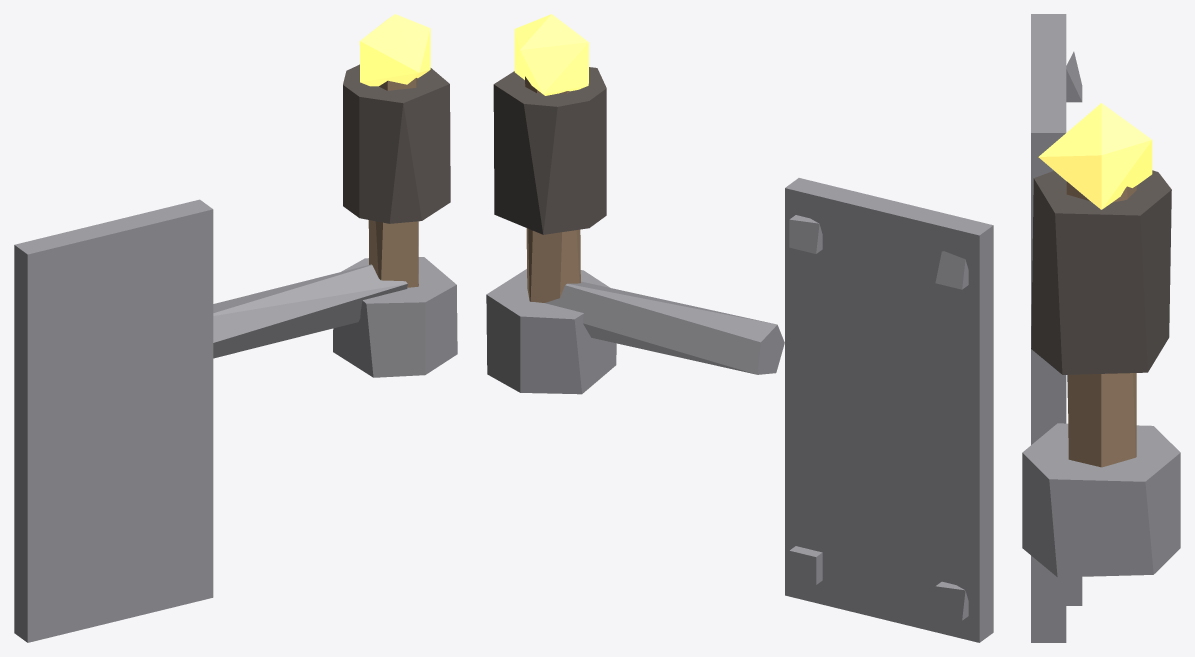
The model's file is 25-Ruinas-Templos_antorcha_pared.glb.
The picture shows the model from 3 angles, left to right: view 1: azimuth 30°, elevation 25°; view 2: azimuth 150°, elevation 25°; view 3: azimuth 270°, elevation 25°; orthographic projection. The views are drawn at different scales.
Parts seen in each view (by area): view 1: SM_AntorchaP_M_Hierro_AntorchaP, SM_AntorchaP_M_Tela_AntorchaP, SM_AntorchaP_M_Brasa_AntorchaP, SM_AntorchaP_M_Madera_AntorchaP; view 2: SM_AntorchaP_M_Hierro_AntorchaP, SM_AntorchaP_M_Tela_AntorchaP, SM_AntorchaP_M_Brasa_AntorchaP, SM_AntorchaP_M_Madera_AntorchaP; view 3: SM_AntorchaP_M_Hierro_AntorchaP, SM_AntorchaP_M_Tela_AntorchaP, SM_AntorchaP_M_Brasa_AntorchaP, SM_AntorchaP_M_Madera_AntorchaP.
Boxes of the visible parts, bbox=[...] form: SM_AntorchaP_M_Hierro_AntorchaP: bbox=[14, 199, 457, 642]; SM_AntorchaP_M_Tela_AntorchaP: bbox=[343, 64, 450, 223]; SM_AntorchaP_M_Brasa_AntorchaP: bbox=[359, 14, 430, 86]; SM_AntorchaP_M_Madera_AntorchaP: bbox=[368, 78, 418, 287]; SM_AntorchaP_M_Hierro_AntorchaP: bbox=[486, 178, 993, 642]; SM_AntorchaP_M_Tela_AntorchaP: bbox=[493, 67, 606, 234]; SM_AntorchaP_M_Brasa_AntorchaP: bbox=[514, 14, 588, 95]; SM_AntorchaP_M_Madera_AntorchaP: bbox=[525, 76, 580, 302]; SM_AntorchaP_M_Hierro_AntorchaP: bbox=[1022, 14, 1180, 642]; SM_AntorchaP_M_Tela_AntorchaP: bbox=[1031, 170, 1171, 374]; SM_AntorchaP_M_Brasa_AntorchaP: bbox=[1038, 103, 1152, 209]; SM_AntorchaP_M_Madera_AntorchaP: bbox=[1066, 181, 1136, 467].
Bounding box in the file's own units: 0.3794 × 0.4228 × 0.09.
